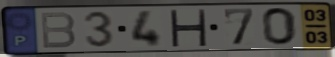0: (260, 6, 301, 47)
3: (82, 10, 116, 50)
4: (128, 9, 166, 49)
7: (222, 7, 257, 48)
B: (38, 11, 78, 50)
H: (167, 9, 208, 48)
